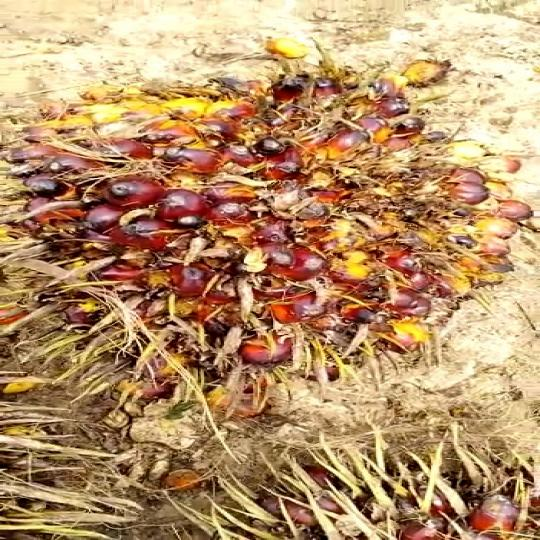masak: (0, 48, 520, 400)
